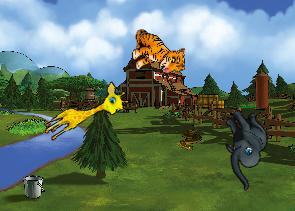elephant: (201, 102, 288, 191)
giraffe: (40, 78, 132, 151)
tiger: (131, 29, 185, 74)
